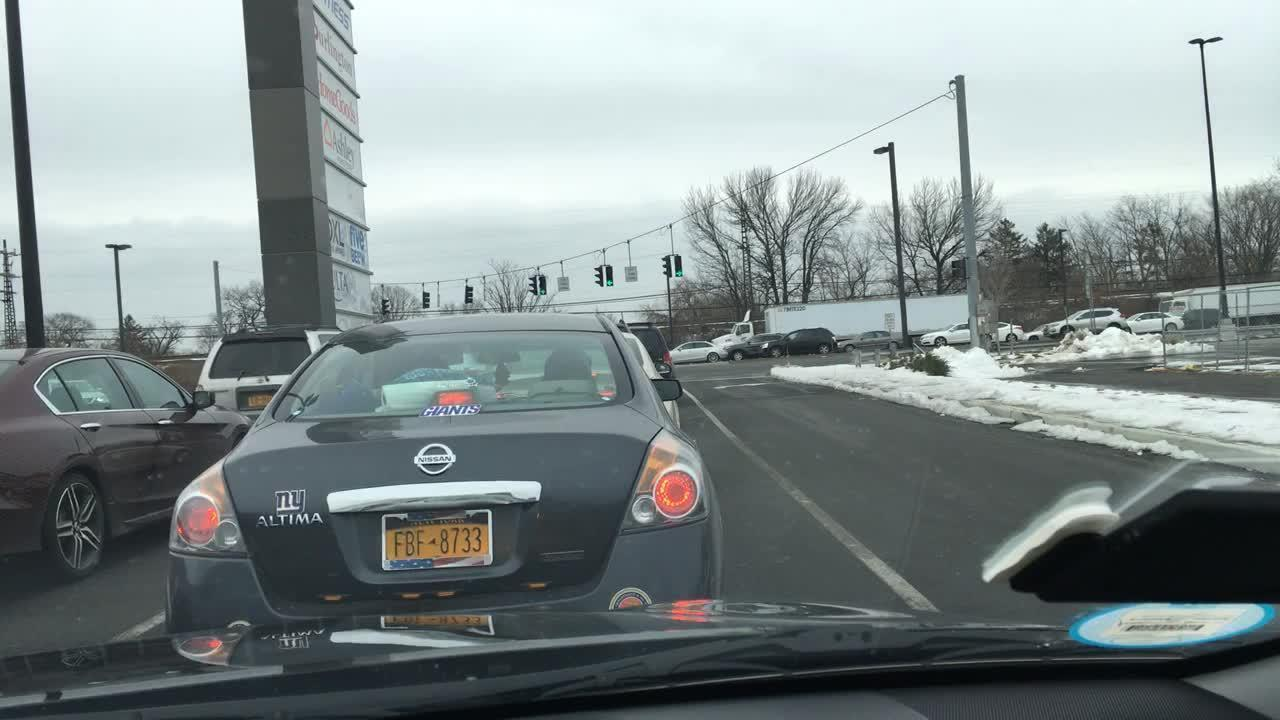Nissan: (409, 437, 464, 479)
